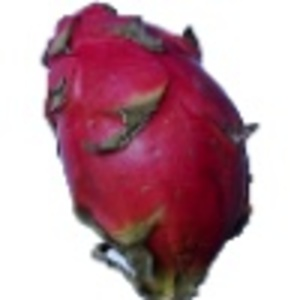pitaia: (41, 1, 260, 300)
